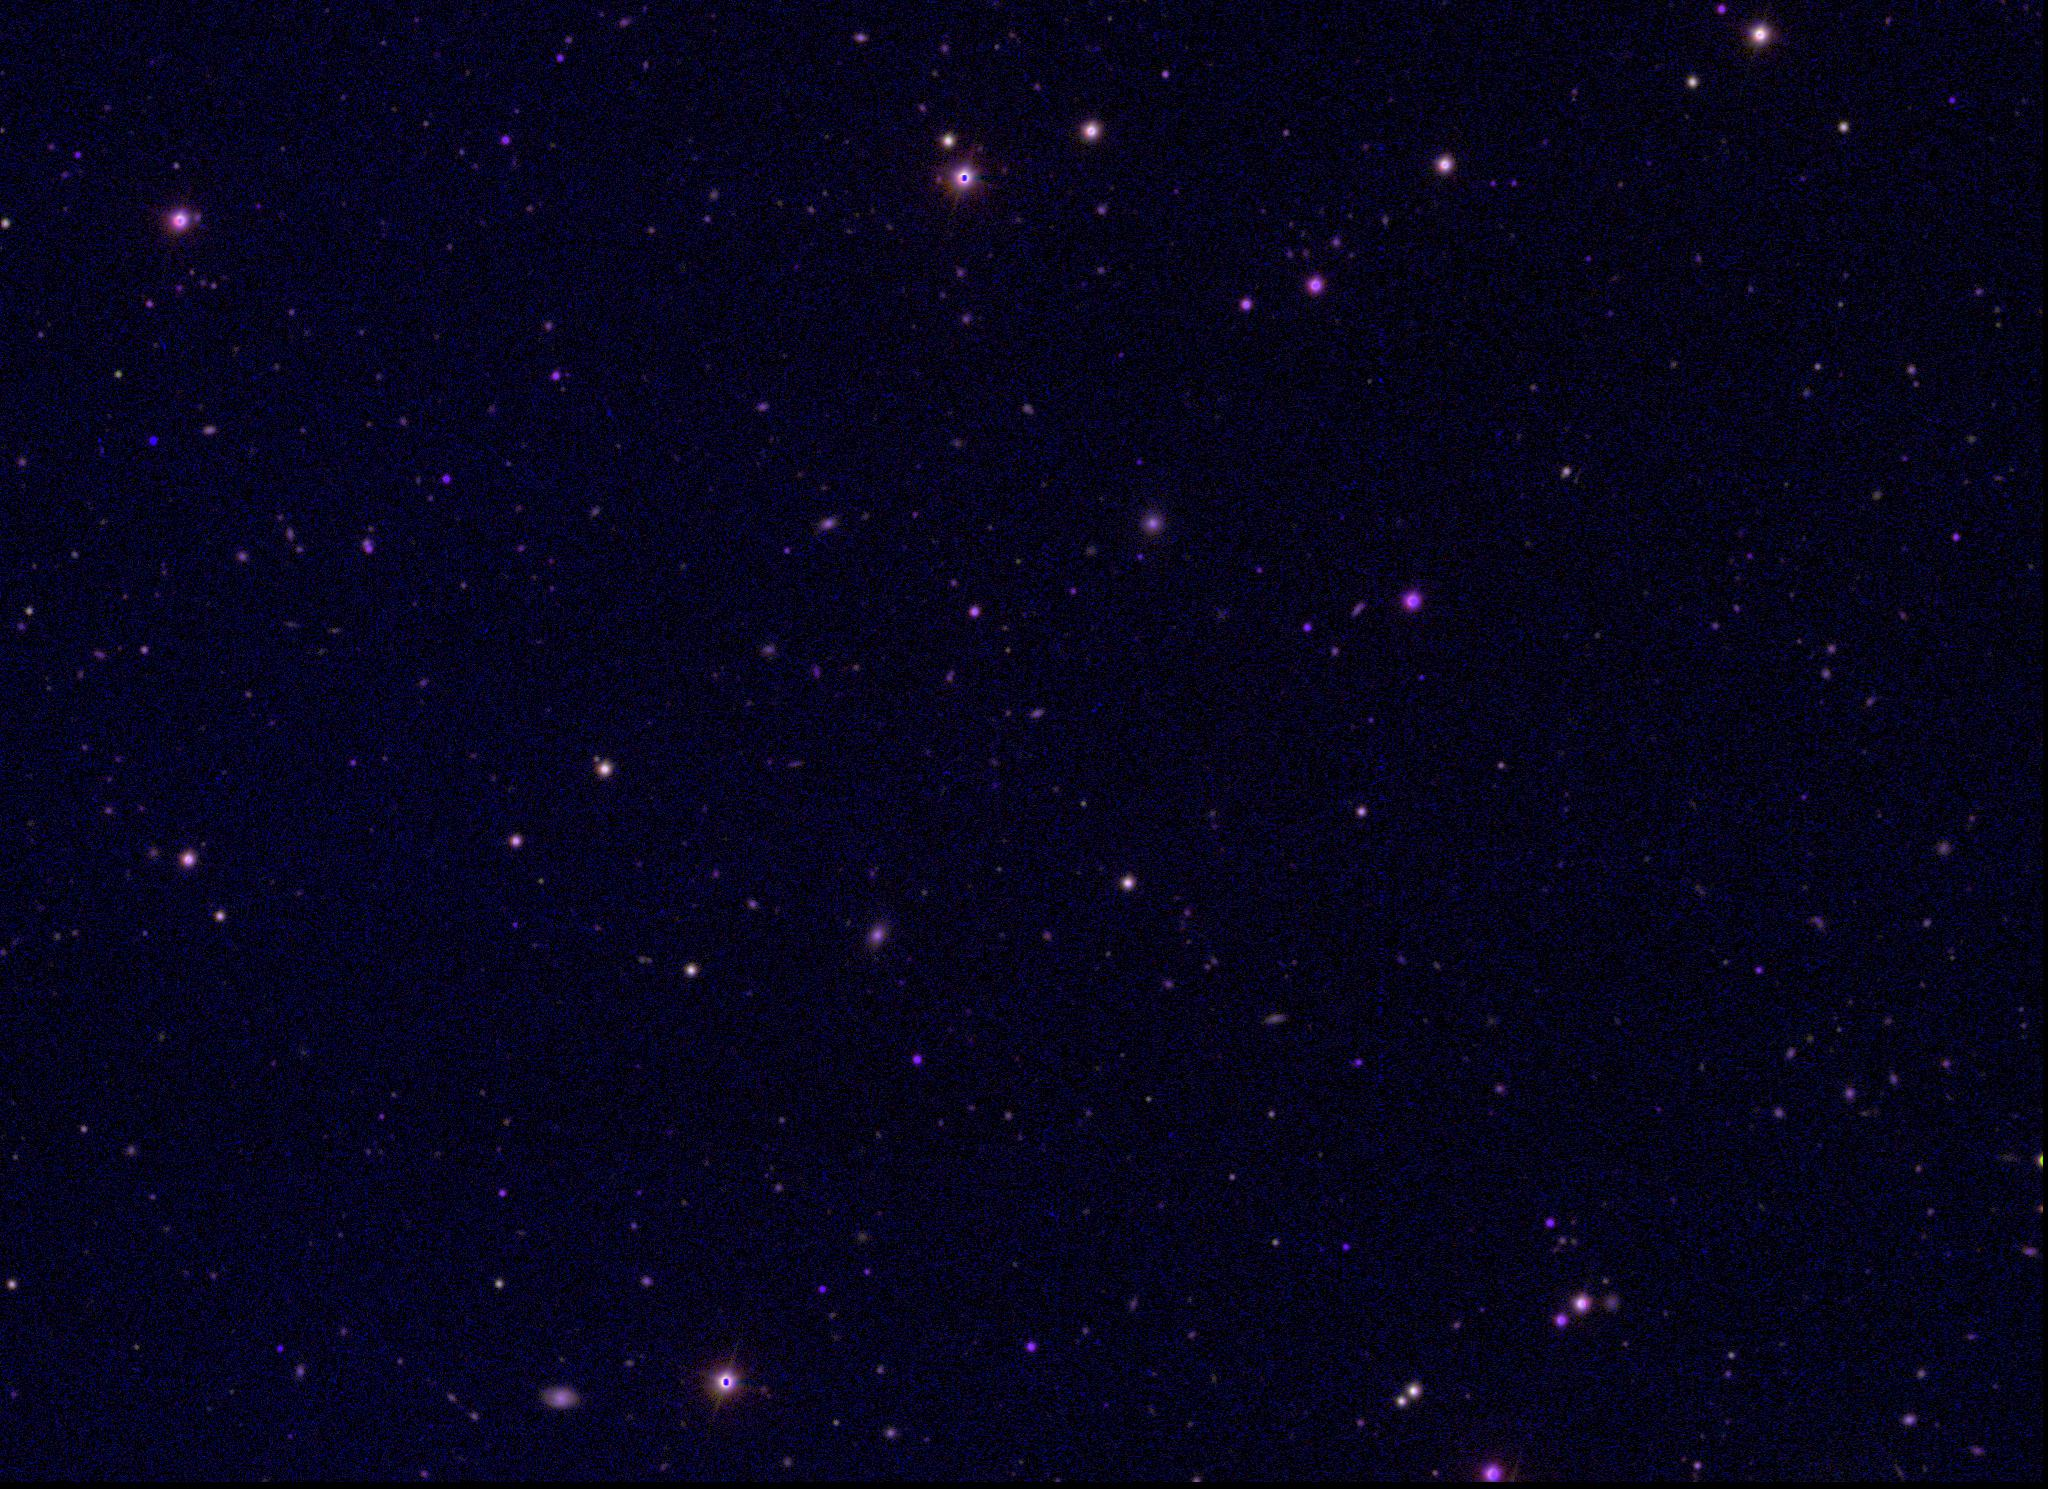L: (142, 431, 156, 445)
